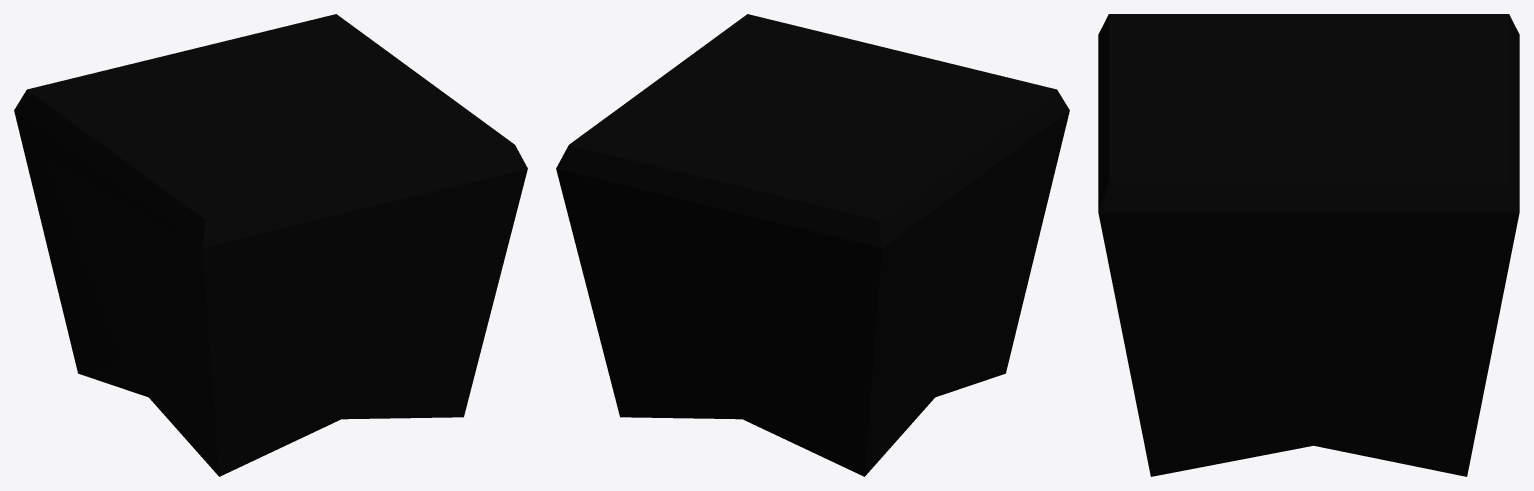
File: cyber_SM_Prop_Snack_06.gltf
3 renders of one model, left to right at view 1: azimuth 30°, elevation 25°; view 2: azimuth 150°, elevation 25°; view 3: azimuth 270°, elevation 25°, orthographic. The views are drawn at different scales.
Parts seen in each view (by area): view 1: SM_Prop_Snack_06; view 2: SM_Prop_Snack_06; view 3: SM_Prop_Snack_06.
Part boxes in pixels (<box>): SM_Prop_Snack_06: <box>14,14,527,476</box>; SM_Prop_Snack_06: <box>556,14,1069,476</box>; SM_Prop_Snack_06: <box>1098,14,1519,476</box>.
Size of the model in its own units: 0.1303 by 0.1064 by 0.1303.
1 material, 1 textured.
